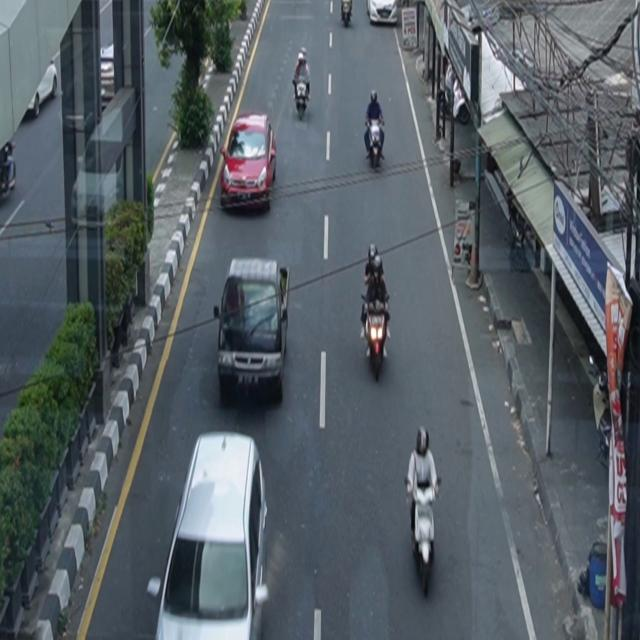car: (147, 432, 270, 640), (214, 258, 291, 405), (220, 112, 278, 213), (367, 1, 398, 26)
